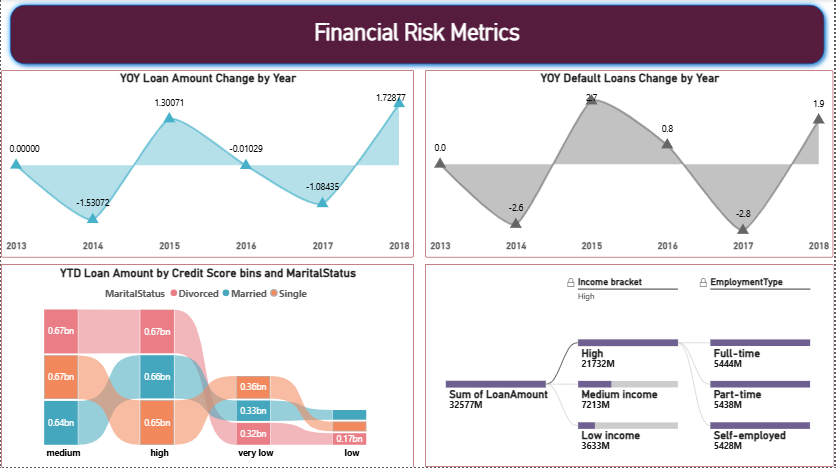

Layout of this report page (visuals, bound fields, positions):
{"tool":"powerbi","page":{"name":"Financial Risk Metrics","canvas":[1280,720],"ordinal":2},"visuals":[{"type":"shape","box":[5.1,0,1270.3,109.3],"z":0},{"type":"lineChart","title":"YOY Loan Amount Change by Year","fields":{"Category":["Loan_default.Year"],"Y":["Measures Table 3.YOY Loan amount change"]},"box":[0,109.3,635.2,288.6],"z":1000},{"type":"lineChart","fields":{"Category":["Loan_default.Year"],"Y":["Measures Table 3.YOY Default Loans Change"]},"box":[652.2,109.3,628.3,288.6],"z":2000},{"type":"ribbonChart","fields":{"Category":["Loan_default.Credit Score bins"],"Series":["Loan_default.MaritalStatus"],"Y":["Measures Table 3.YTD Loan Amount"]},"box":[0,408.1,635.2,312.5],"z":3000},{"type":"decompositionTreeVisual","fields":{"Analyze":["Sum(Loan_default.LoanAmount)"],"ExplainBy":["Loan_default.Income bracket","Loan_default.EmploymentType"]},"box":[652,408,628,312],"z":4000}]}

Visuals, with their boxes in screenshot pixels (x1, y1, x2, y2), scaled from the page's 1280x720 canvas onto the 836x468 screenshot:
shape: 3 0 833 71
"YOY Loan Amount Change by Year" lineChart: 0 71 415 259
lineChart - Loan_default.Year x Measures Table 3.YOY Default Loans Change: 426 71 835 259
ribbonChart - Loan_default.Credit Score bins x Loan_default.MaritalStatus: 0 265 415 467
decompositionTreeVisual - Sum(Loan_default.LoanAmount) x Loan_default.Income bracket: 426 265 835 467
